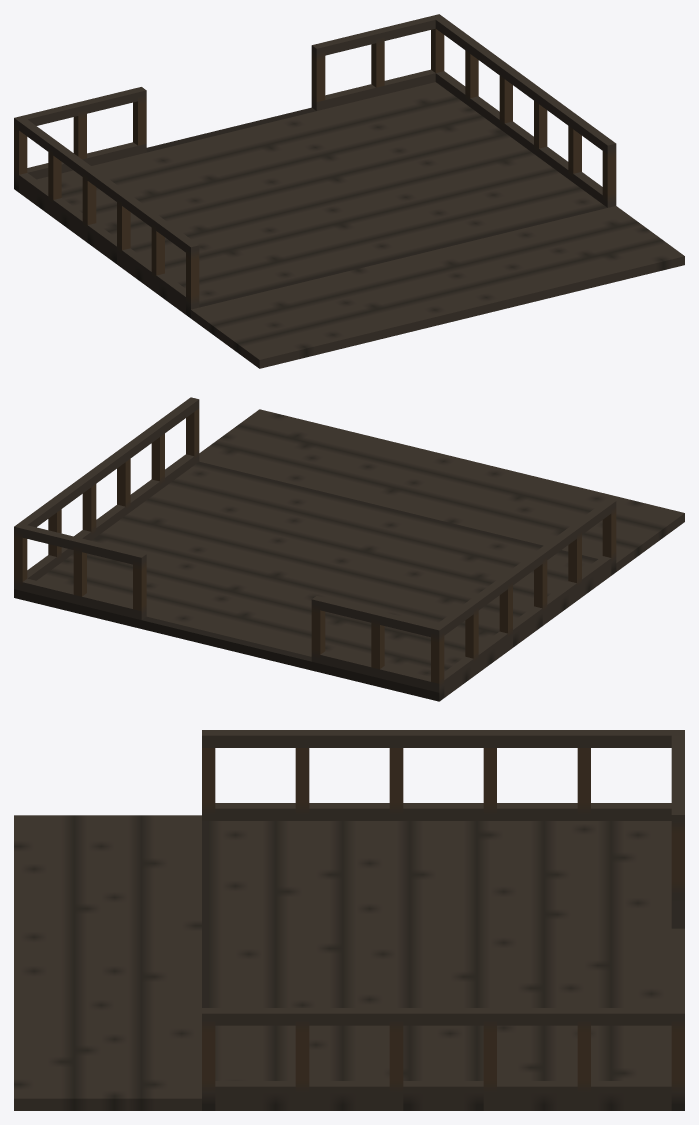
File: Pier End.dae
The picture shows the model from 3 angles, top to bottom: view 1: azimuth 30°, elevation 25°; view 2: azimuth 150°, elevation 25°; view 3: azimuth 270°, elevation 25°; orthographic projection. The views are drawn at different scales.
Parts seen in each view (by area): view 1: Pier End; view 2: Pier End; view 3: Pier End.
Part boxes in pixels (left/top/right/bottom): Pier End: left=14, top=14, right=684, bottom=368; Pier End: left=14, top=397, right=684, bottom=701; Pier End: left=14, top=730, right=684, bottom=1110.
Size of the model in its own units: 50 by 8 by 50.
1 material, 1 textured.
